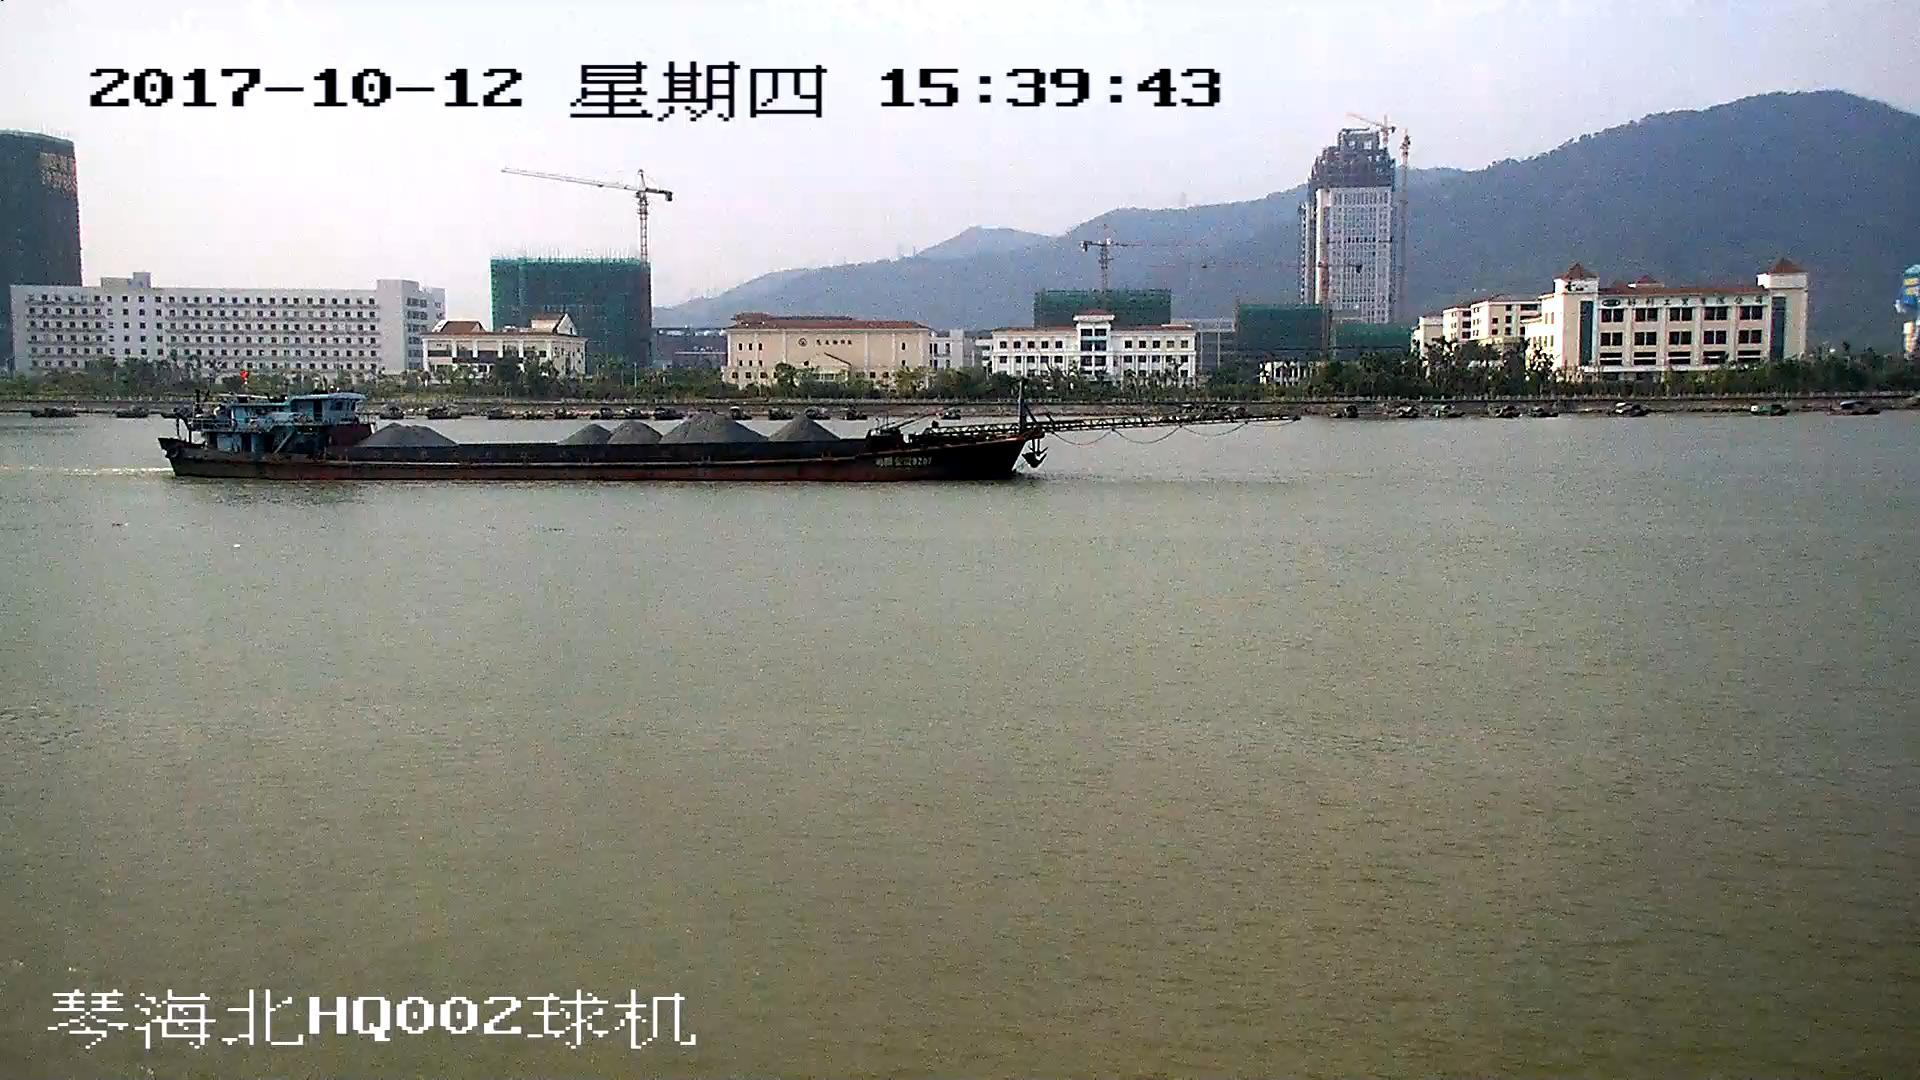Ship: (167, 375, 1254, 484)
